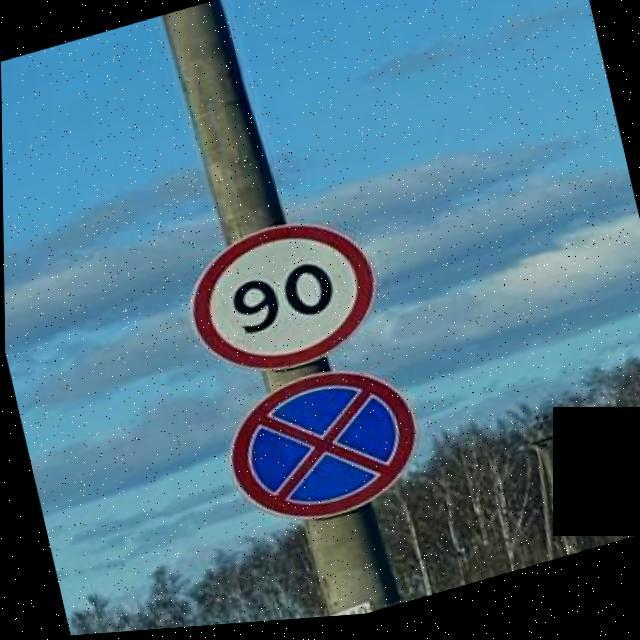speed limit 90: (188, 224, 373, 371)
